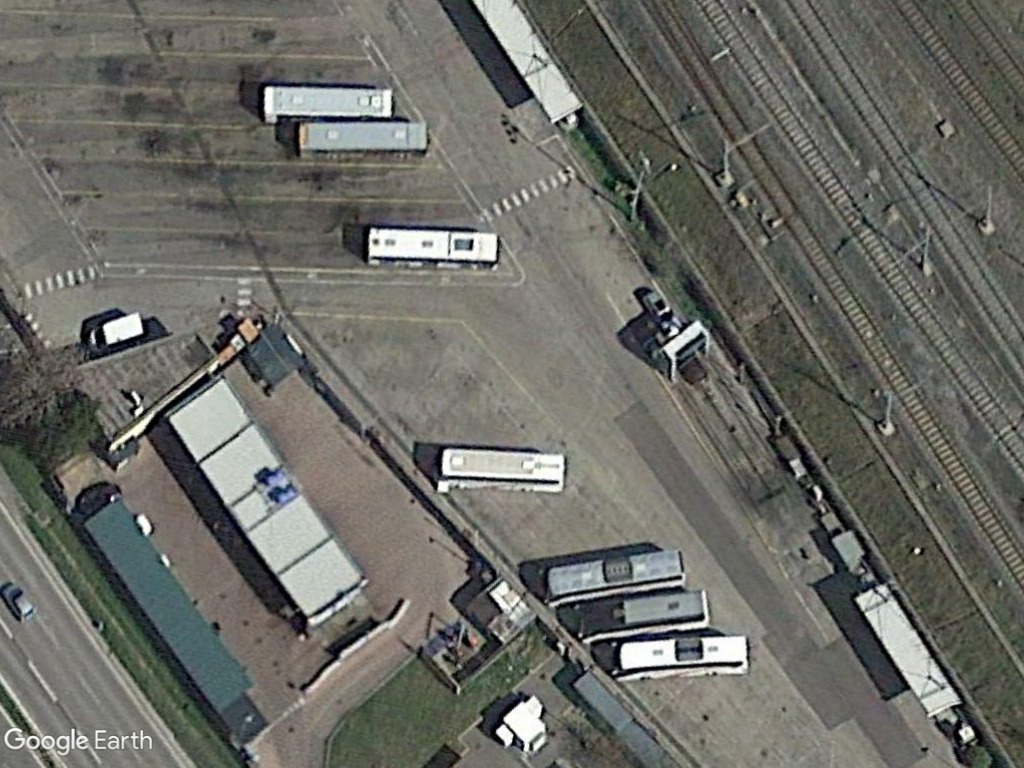bus: (541, 543, 689, 605), (599, 629, 753, 684), (569, 586, 710, 642), (432, 442, 568, 498), (362, 221, 502, 275), (292, 117, 432, 166), (256, 80, 396, 123)
car: (0, 577, 37, 626)
van: (79, 305, 148, 357)
